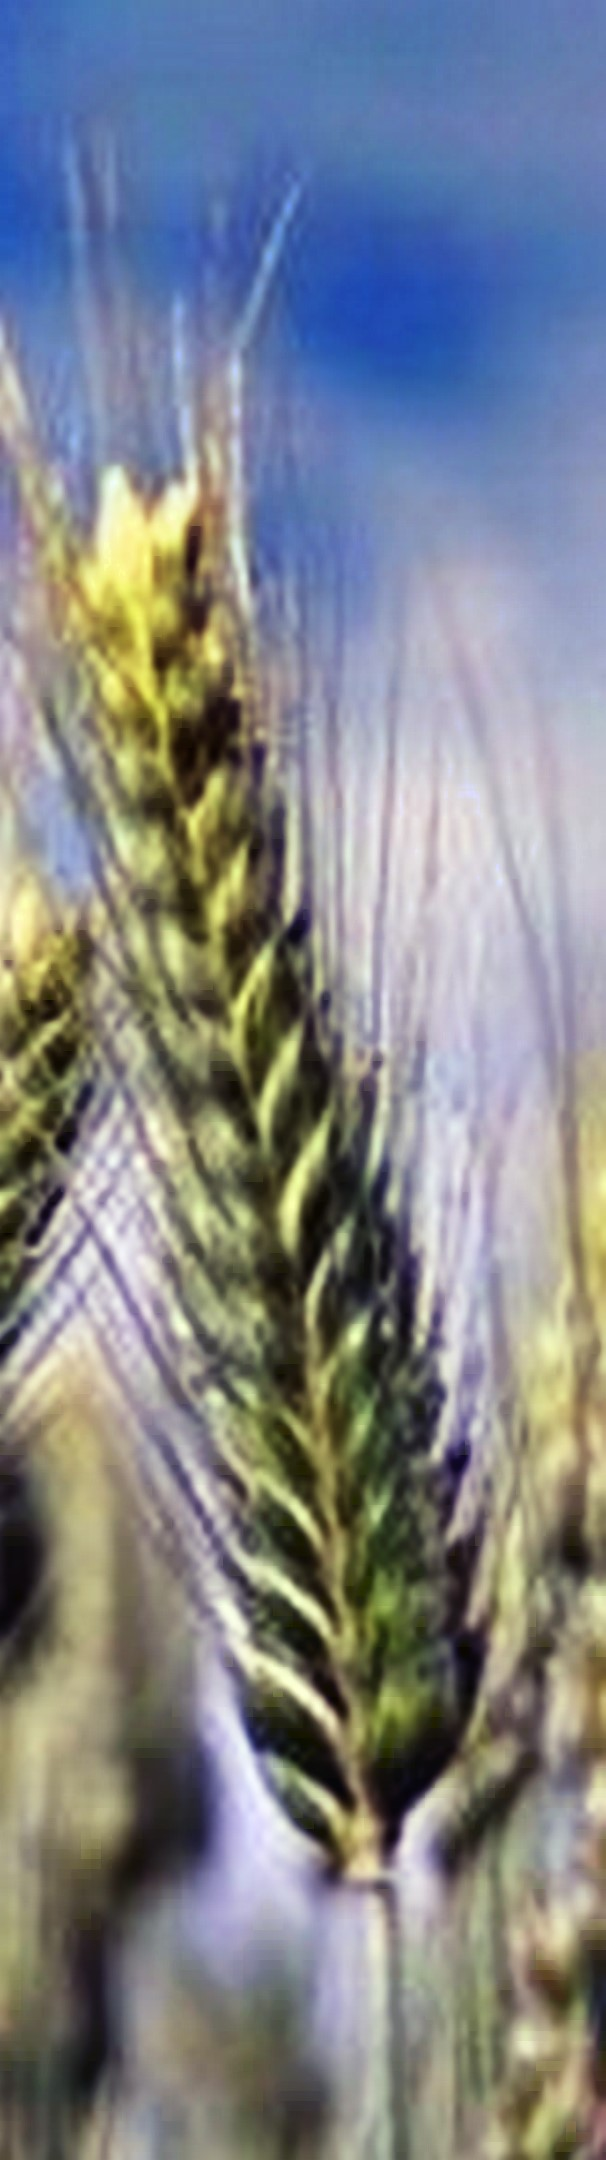Healthy Wheat: (21, 442, 523, 1784)
